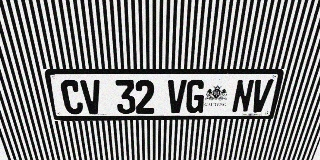2: (135, 80, 154, 114)
3: (115, 80, 136, 114)
C: (59, 80, 84, 114)
G: (185, 80, 206, 113)
N: (231, 79, 255, 113)
V: (249, 79, 274, 112), (80, 80, 103, 114), (167, 80, 187, 113)
